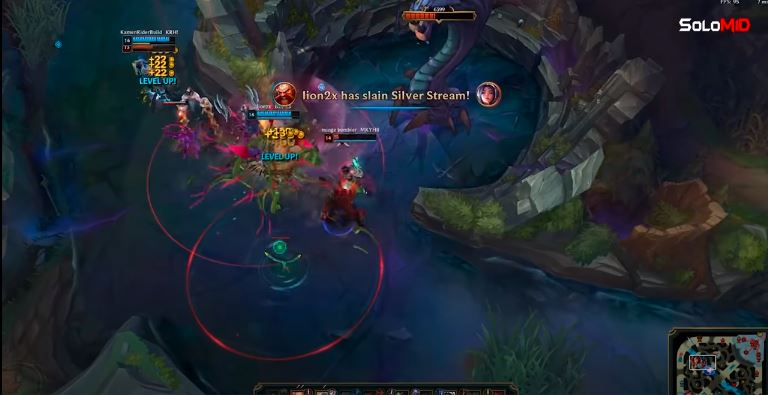bar: (119, 30, 179, 44), (323, 131, 383, 144), (244, 108, 304, 120), (121, 42, 178, 54)
